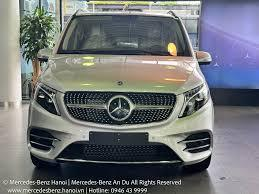mercedes: (106, 97, 132, 120)
